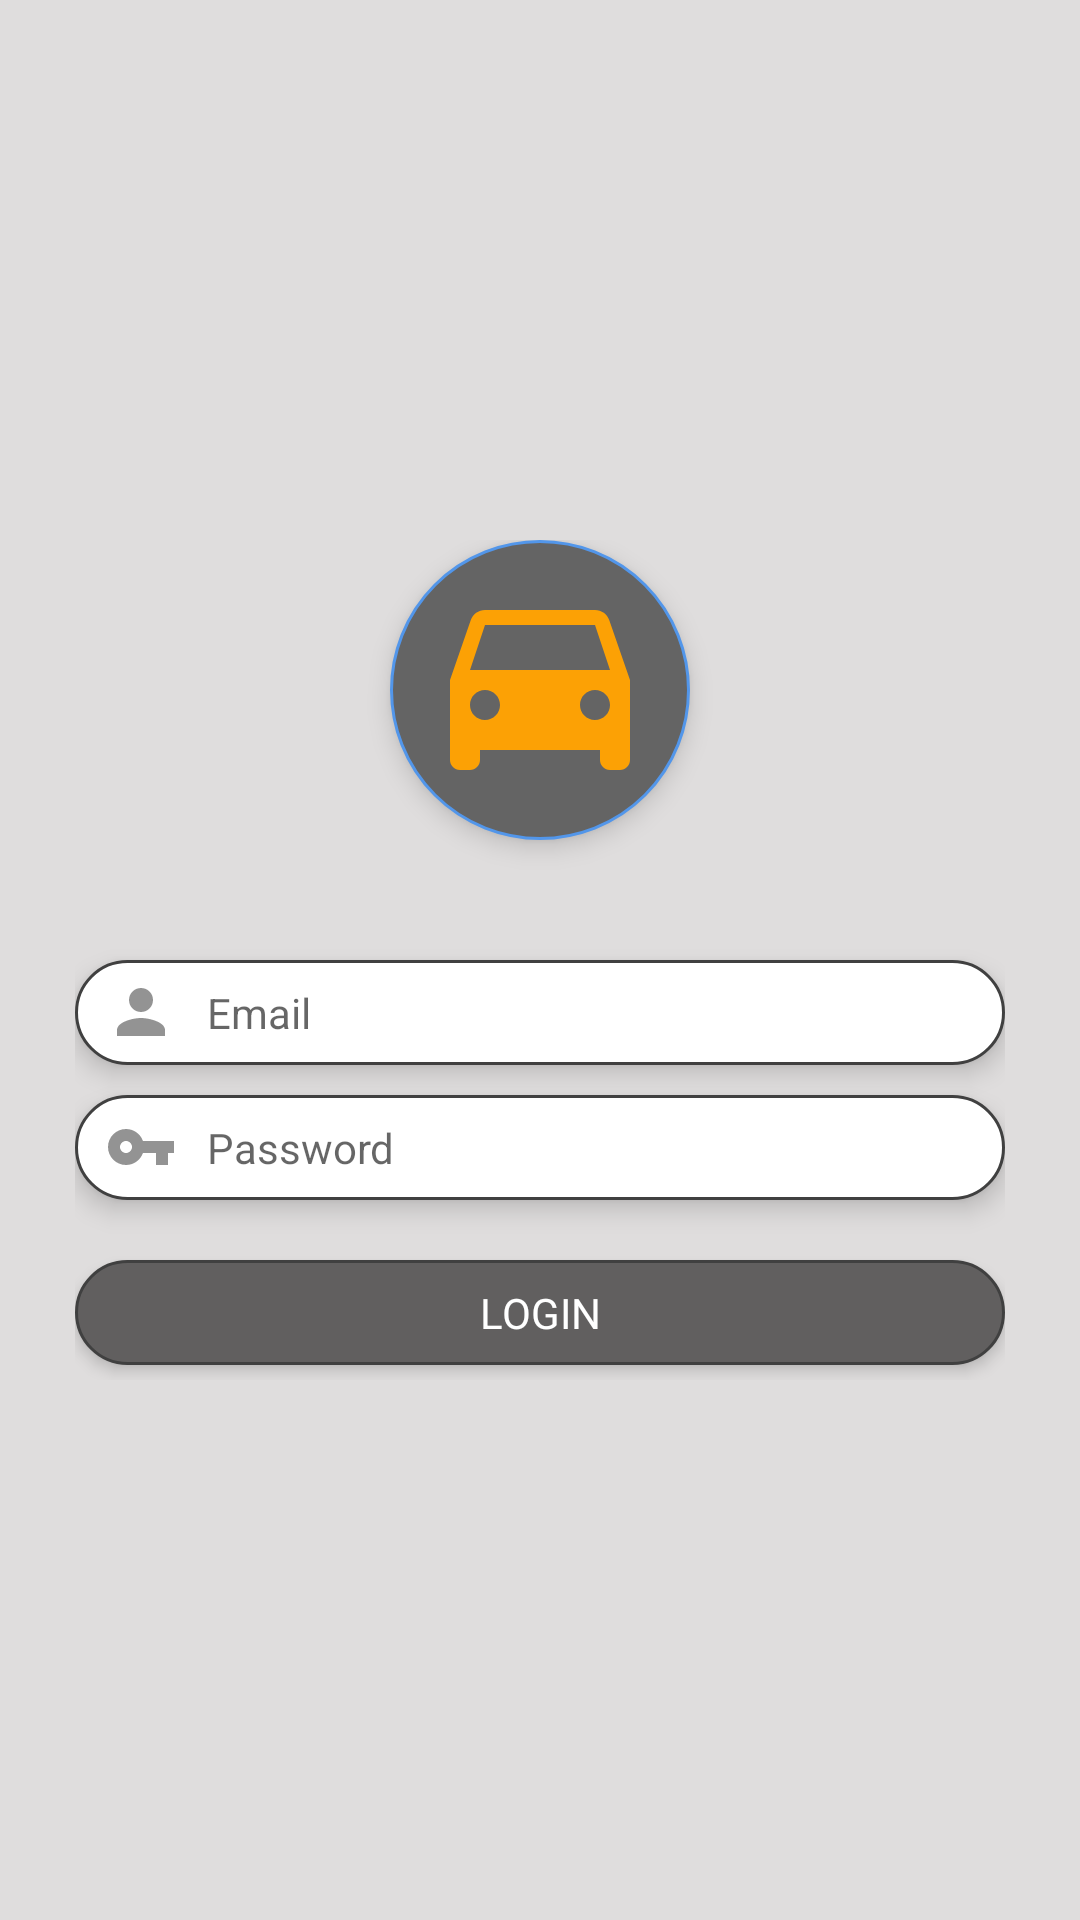

Icons on this 1080x1920 Android screen, each with the point to tap as [x,y]:
drive eta: [540,690]
